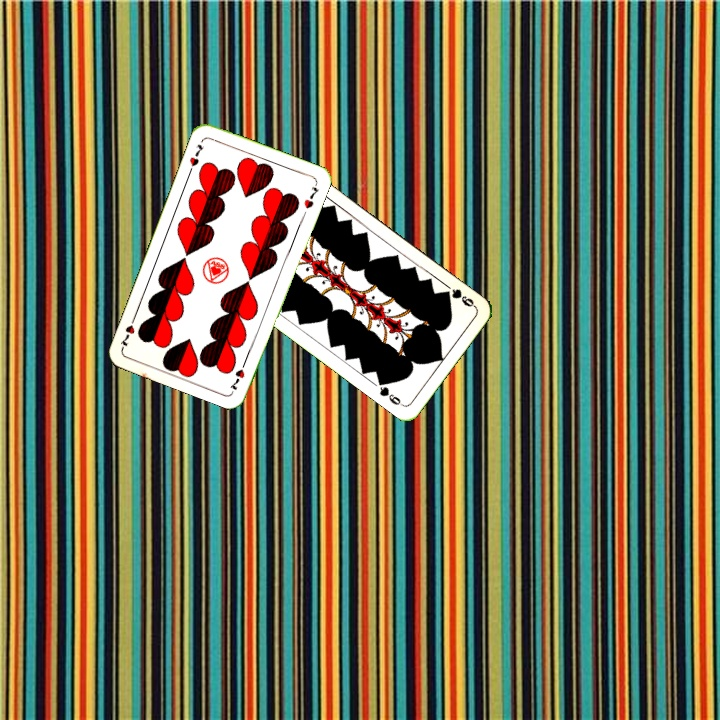G9: (439, 284, 478, 310)
H7: (227, 355, 249, 393), (185, 140, 207, 176)
